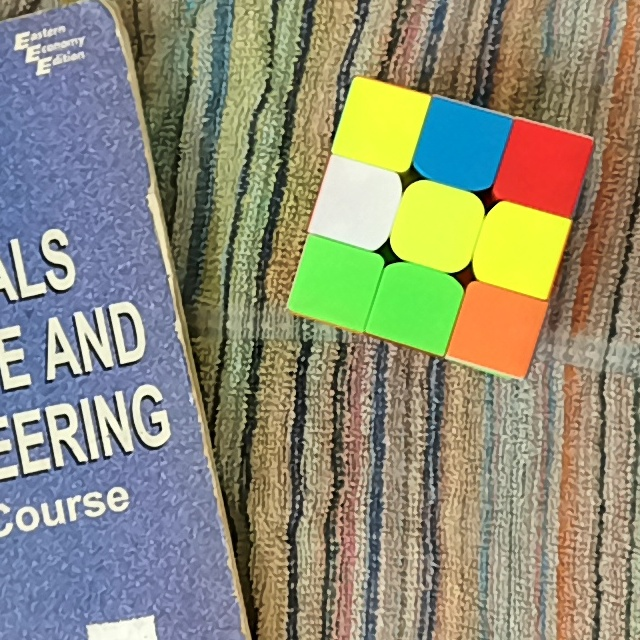tile: (511, 135, 576, 198), (428, 117, 493, 178), (491, 217, 554, 277), (406, 196, 468, 256), (383, 278, 448, 335), (329, 172, 390, 232), (305, 255, 366, 314), (351, 94, 409, 155), (468, 301, 530, 357)
